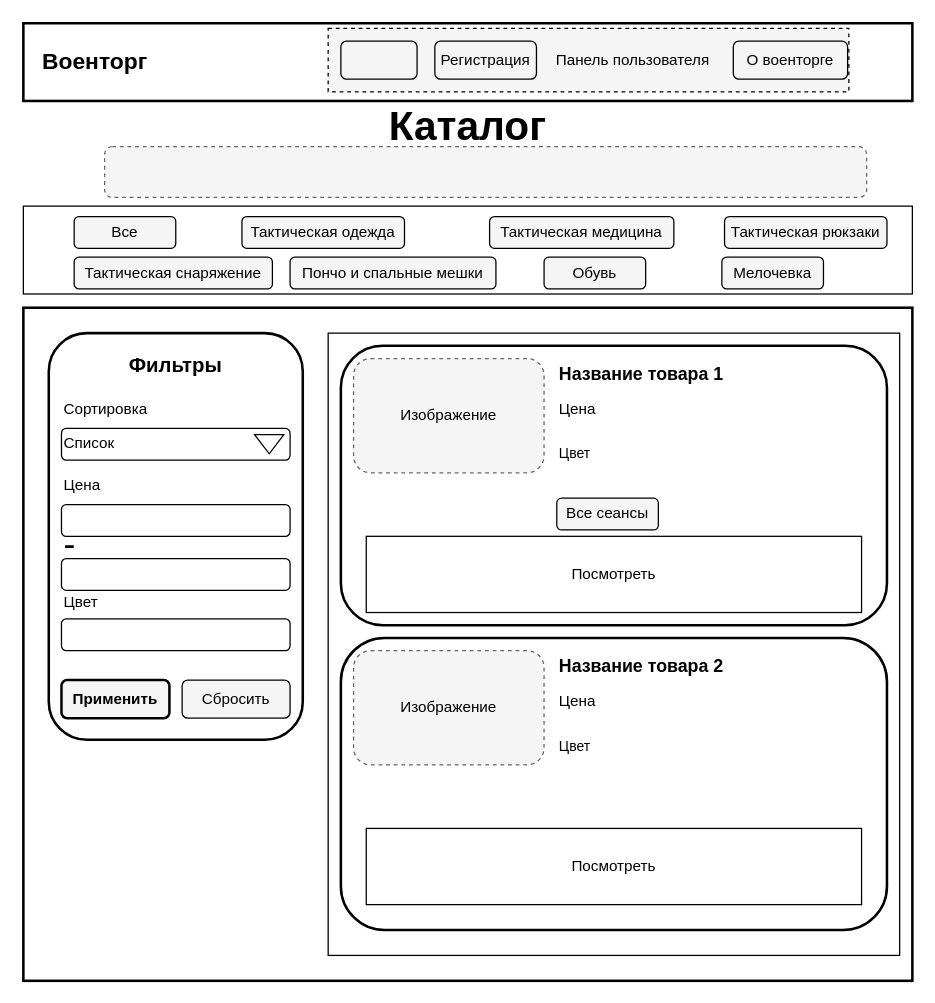
This 935x1003 diagram has some shape labels left out. Here are the shapes that lost their labels. From the top down, the centre of each, then its label:
At (378,59): "Войти".
At (485,171): "Сообщения системы".
